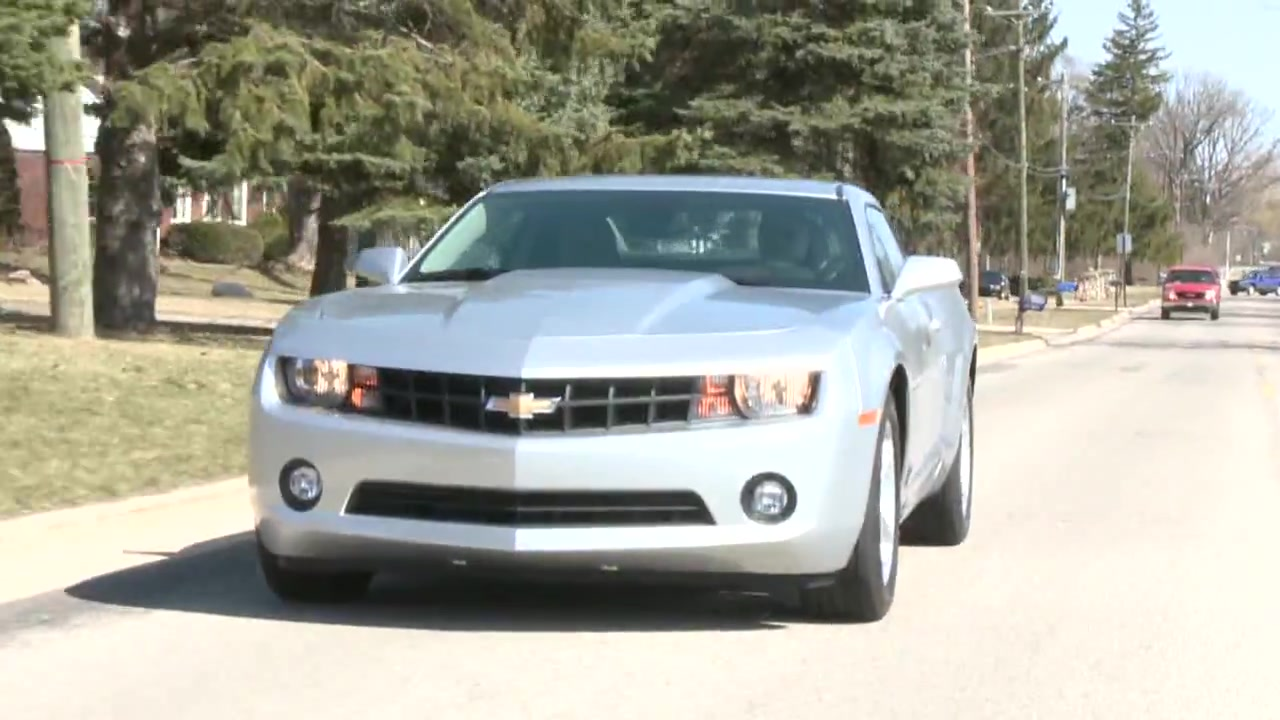car: (249, 168, 982, 626)
